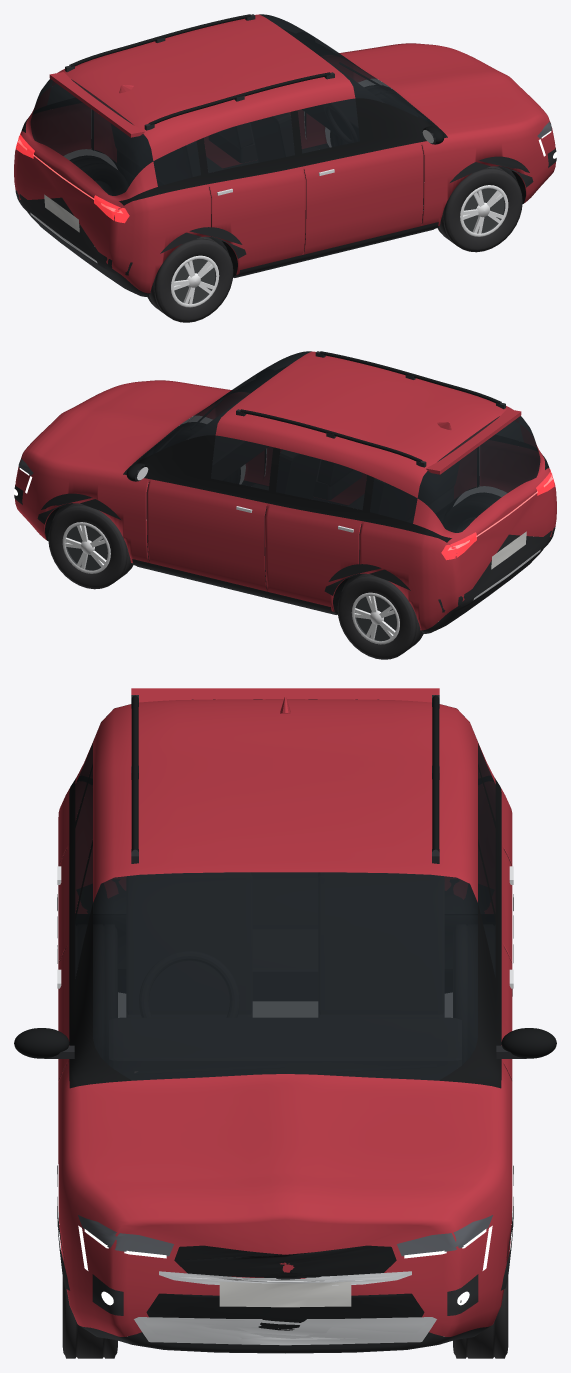
Rendered from kia-sonet-model-low.glb.
3 renders of one model, top to bottom at view 1: azimuth 30°, elevation 25°; view 2: azimuth 150°, elevation 25°; view 3: azimuth 270°, elevation 25°, orthographic. The views are drawn at different scales.
Visible parts, largest first — view 1: Body, Wheel.004, Wheel.002, SeatBack.002, SeatBack.001, SillCladding.001, Spoiler, RearBumper, Dashboard, Wheel.003, ArchCladding.003, ArchCladding.001 (+9 smaller); view 2: Body, Wheel.003, Wheel.001, SeatBack.002, Dashboard, SeatBack, SillCladding, Spoiler, RearBumper, Wheel.004, ArchCladding.002, ArchCladding (+8 smaller); view 3: Body, Dashboard, SeatBack, SeatBack.001, Silver1, Grille, Intake, SeatBase.002, Spoiler, SeatBack.002, PlateFront, Wheel.004 (+13 smaller).
Boxes of the visible parts, x1,y1,x2,y2 form: Body: (14, 14, 555, 296); Wheel.004: (147, 236, 233, 322); Wheel.002: (437, 166, 522, 252); SeatBack.002: (111, 124, 200, 183); SeatBack.001: (251, 113, 294, 162); SillCladding.001: (234, 222, 438, 277); Spoiler: (49, 72, 144, 137); RearBumper: (15, 190, 132, 275); Dashboard: (302, 63, 382, 141); Wheel.003: (70, 156, 127, 195); ArchCladding.003: (160, 227, 246, 258); ArchCladding.001: (450, 156, 533, 187); Body: (15, 351, 556, 633); Wheel.003: (337, 573, 423, 659); Wheel.001: (48, 503, 133, 589); SeatBack.002: (370, 461, 459, 520); Dashboard: (188, 400, 267, 479); SeatBack: (276, 450, 319, 499); SillCladding: (132, 559, 336, 614); Spoiler: (426, 409, 521, 474); RearBumper: (438, 527, 555, 612); Wheel.004: (443, 493, 500, 532); ArchCladding.002: (324, 564, 410, 595); ArchCladding: (37, 493, 120, 524); Body: (58, 699, 512, 1353); Dashboard: (109, 1018, 461, 1080); SeatBack: (319, 872, 443, 1013); SeatBack.001: (127, 872, 251, 1013); Silver1: (134, 1317, 436, 1345); Grille: (174, 1245, 396, 1277); Intake: (146, 1293, 424, 1330); SeatBase.002: (253, 930, 317, 1000); Spoiler: (131, 688, 439, 702); SeatBack.002: (253, 873, 317, 928); PlateFront: (219, 1281, 351, 1307); Wheel.004: (76, 925, 117, 1064).
Size of the model in its own units: 3.93 by 1.65 by 2.15.
